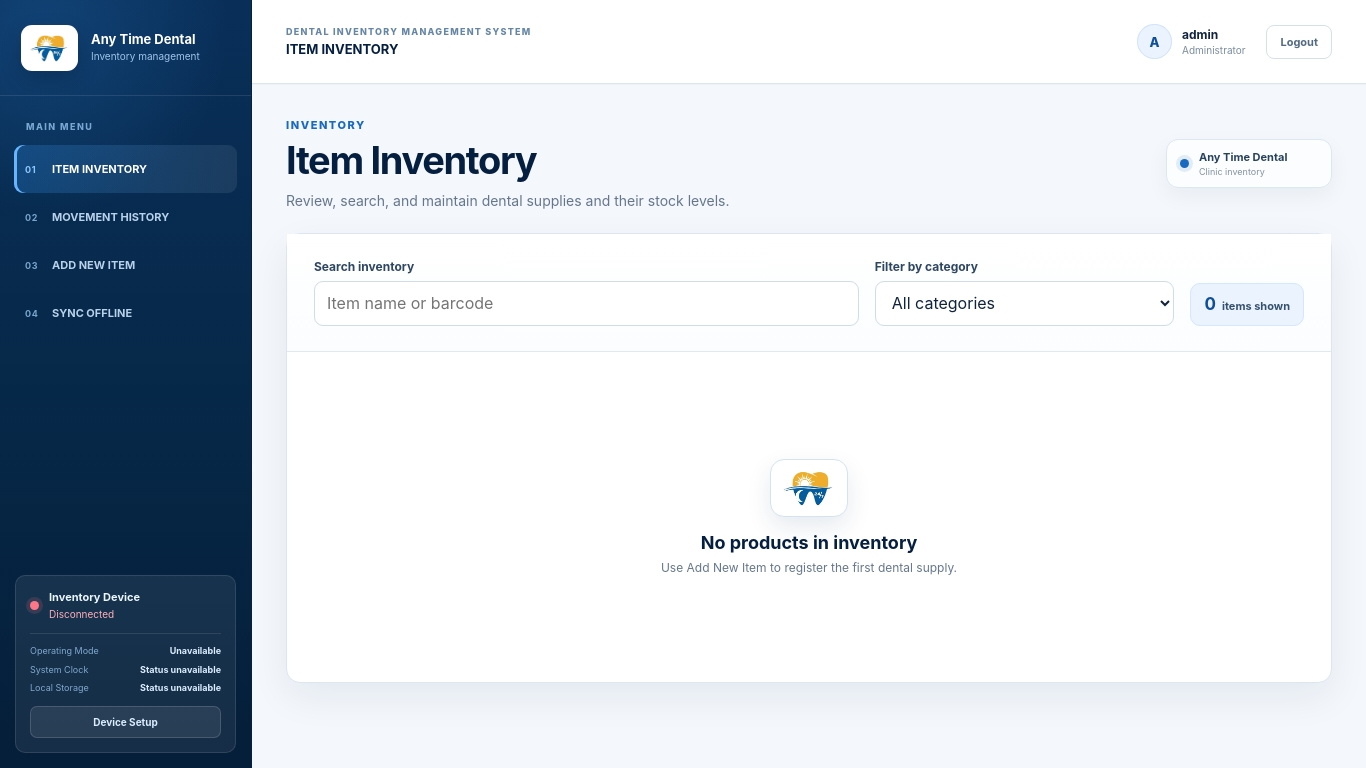
Test: clinic device setup › does not offer an invented address for a discovered device without Wi-Fi
Step 1. Click the button "Device Setup" → (126, 722), box [30,706,221,738]
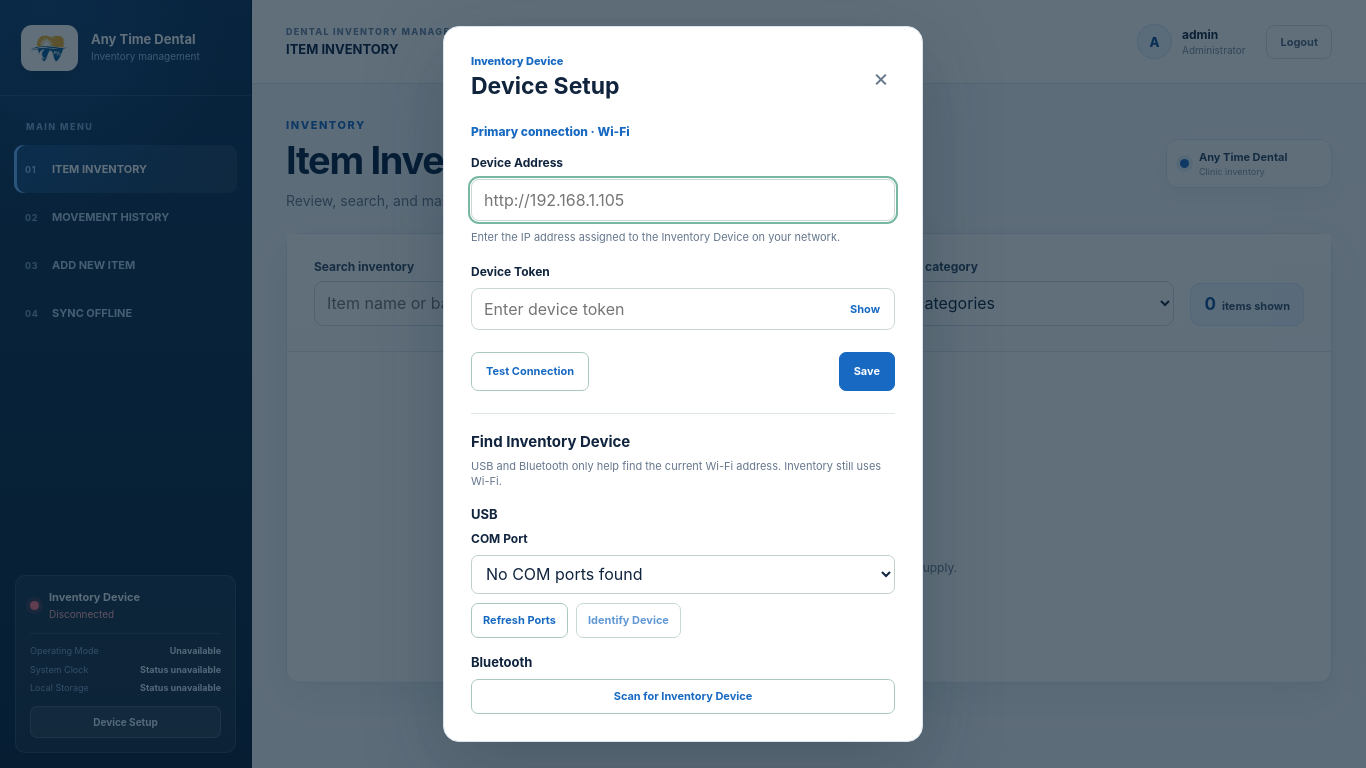
Step 2. Click the button "Refresh Ports" → (520, 620), box [471,603,568,638]
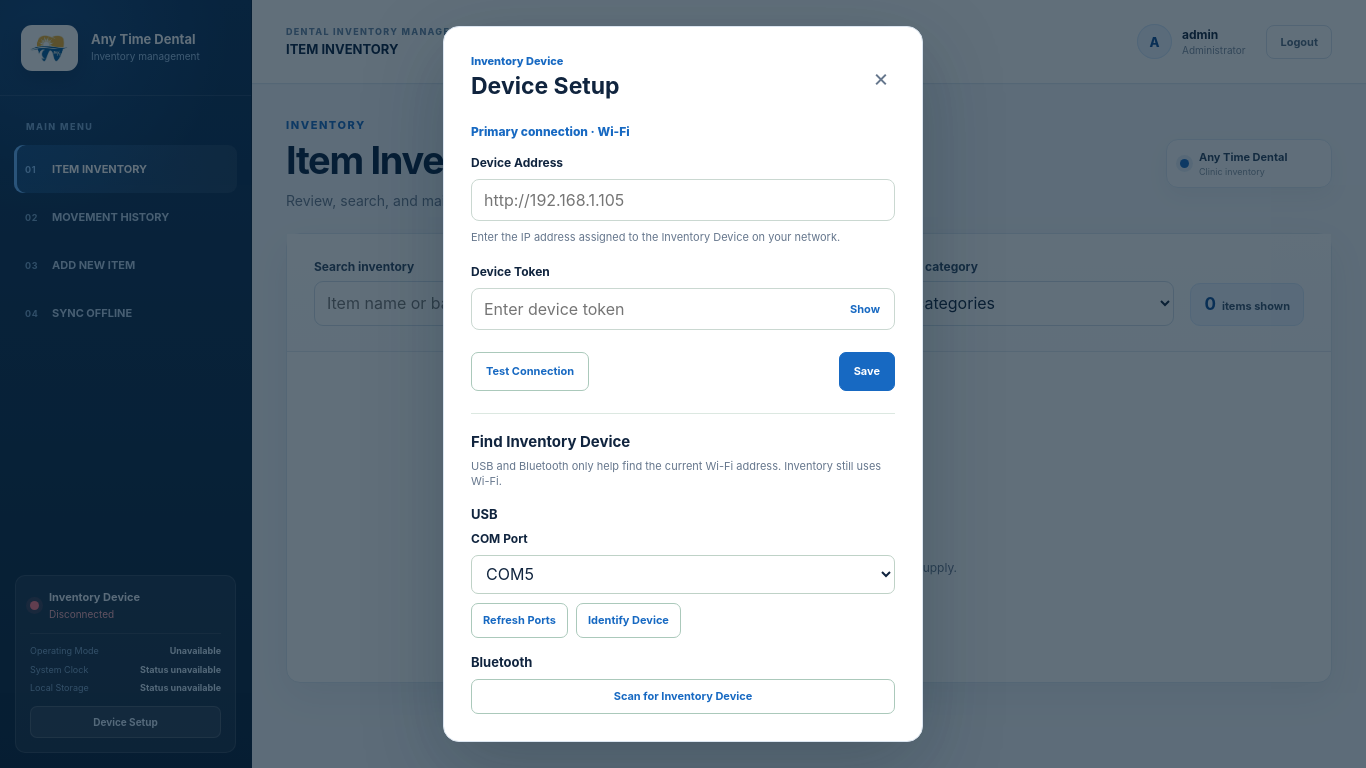
Step 3. Click the button "Identify Device" → (628, 620), box [576,603,681,638]
(page scrolled)
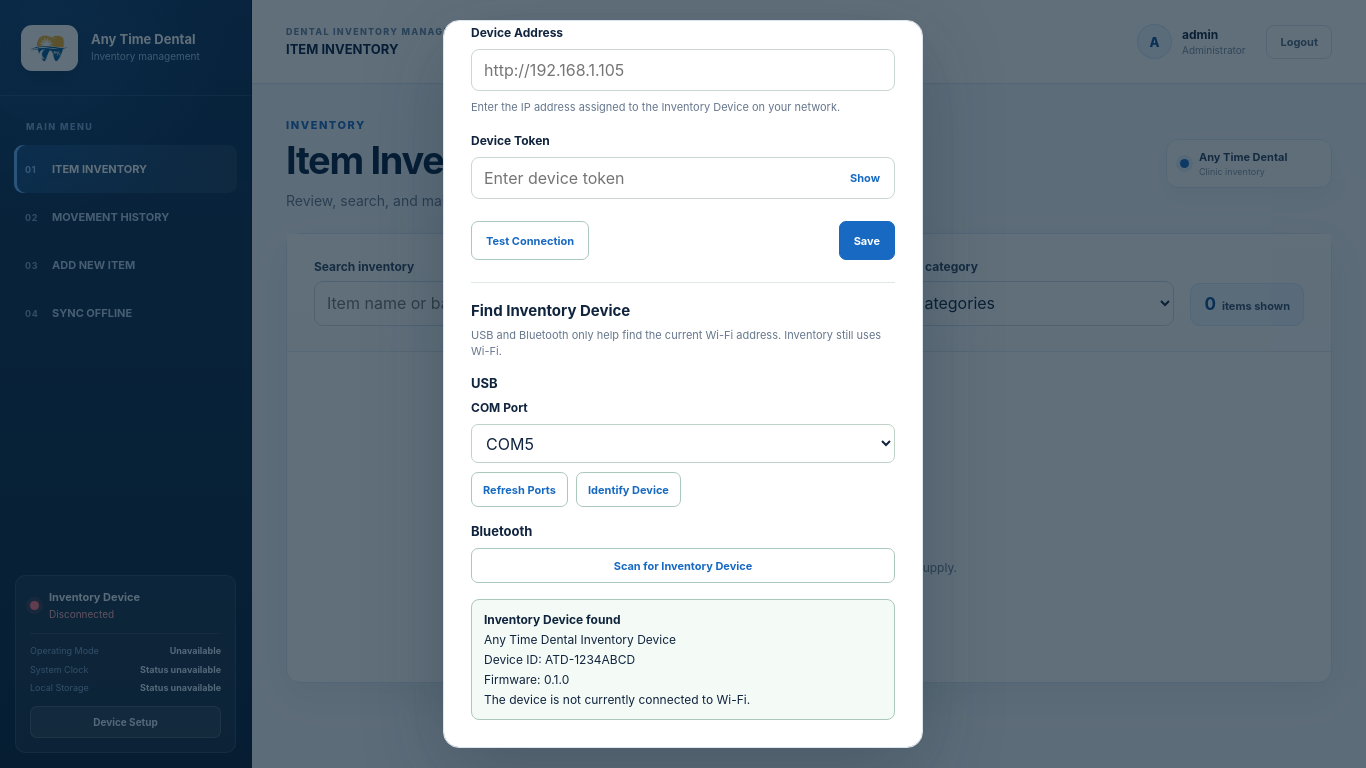
Expected: the text "The device is not currently connected to Wi-Fi." is shown, [484,692,750,707]
